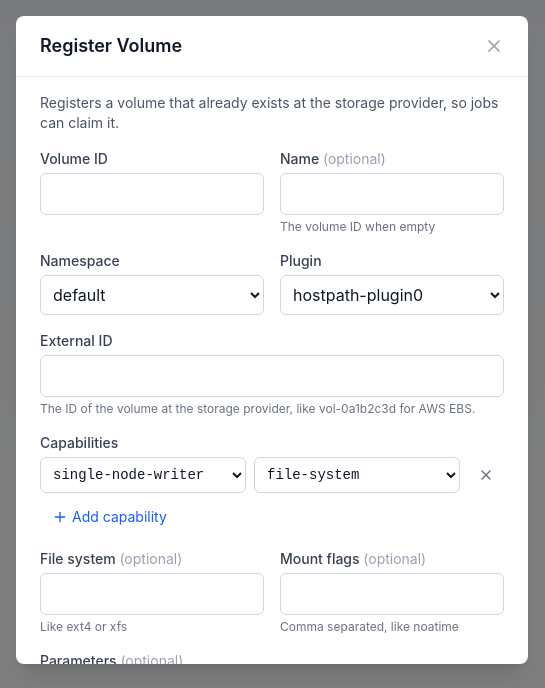
RegisterVolumeModal › explains a permission error
The image size is (545, 688).
Type "postgres-data" into the field labelled "Volume ID" at (152,194), box [40,173,264,215]
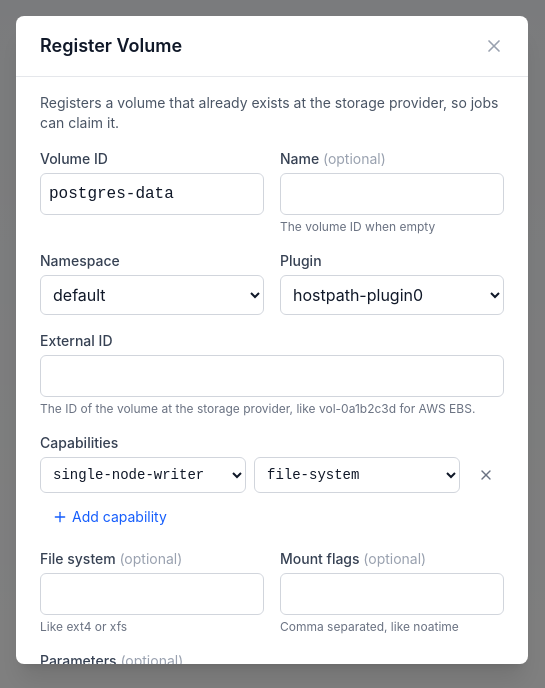
Type "vol-0abc123" into the field labelled "External ID" at (272,376), box [40,355,504,397]
(page scrolled)
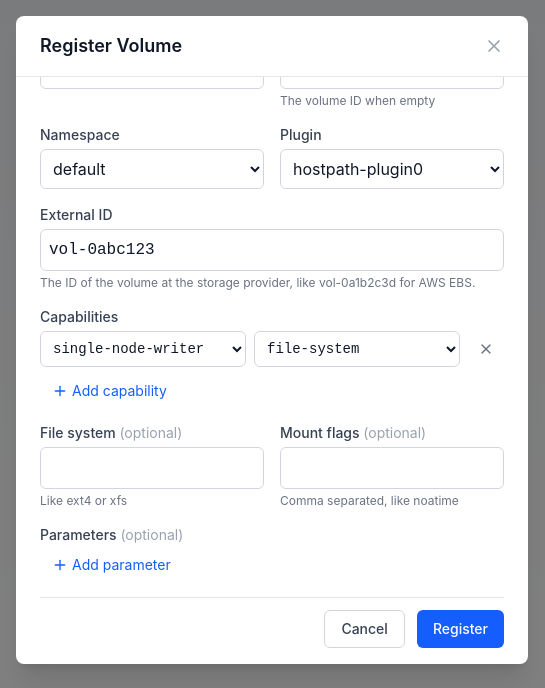
Click the button "Register" at (460,629), box [417,610,504,648]
(page scrolled)
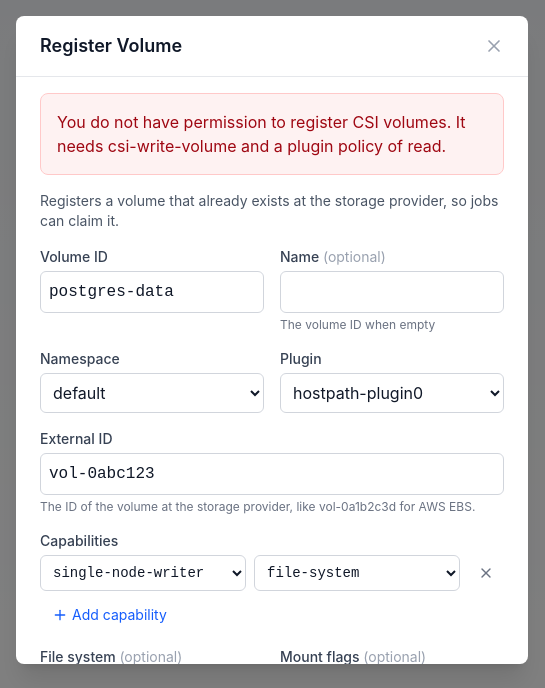
Result: the text "You do not have permission to register CSI volumes. It needs csi-write-volume and a plugin policy of read." is shown at [57,112,466,156]
